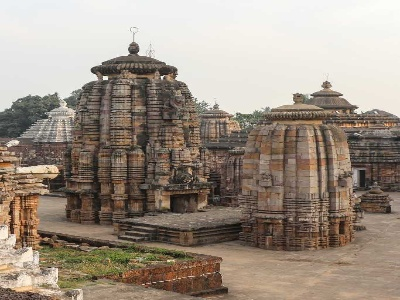amalaka: (88, 49, 183, 81), (251, 100, 334, 129), (199, 105, 239, 121)
gopuram: (61, 74, 211, 188), (242, 116, 356, 220)
